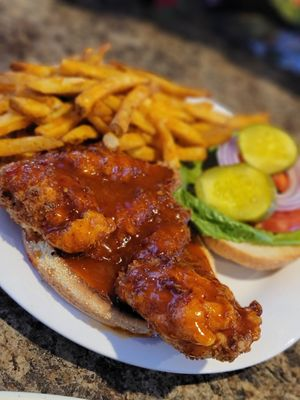soup: (0, 125, 268, 364)
